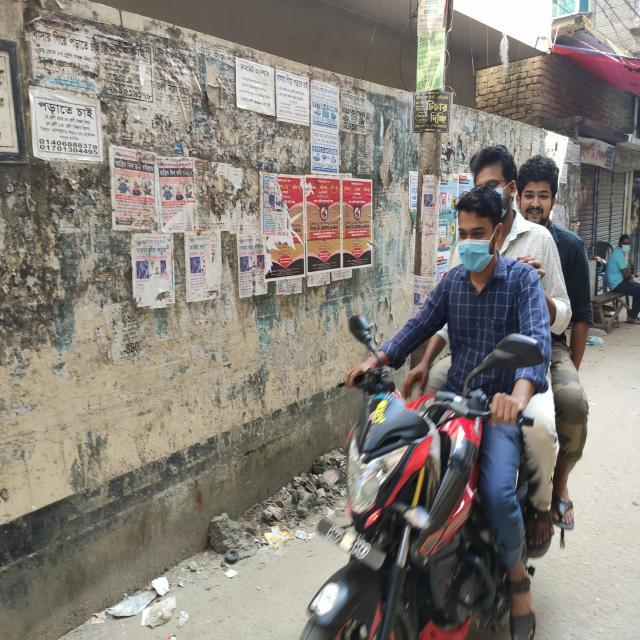Overloading: (344, 117, 616, 627)
